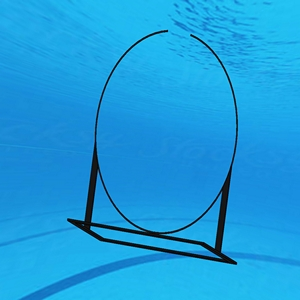circle: (66, 29, 240, 269)
